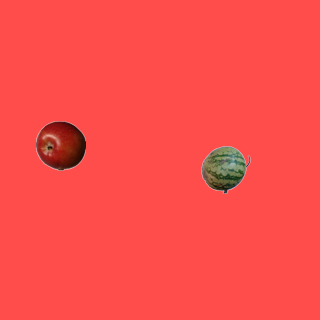Apple Braeburn: (35, 120, 85, 170)
Watermelon: (200, 144, 250, 194)
